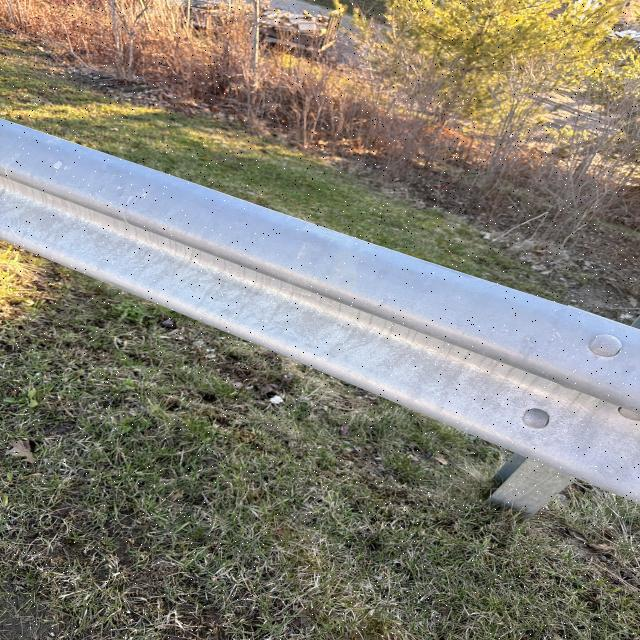Guard rail: (0, 138, 609, 473)
